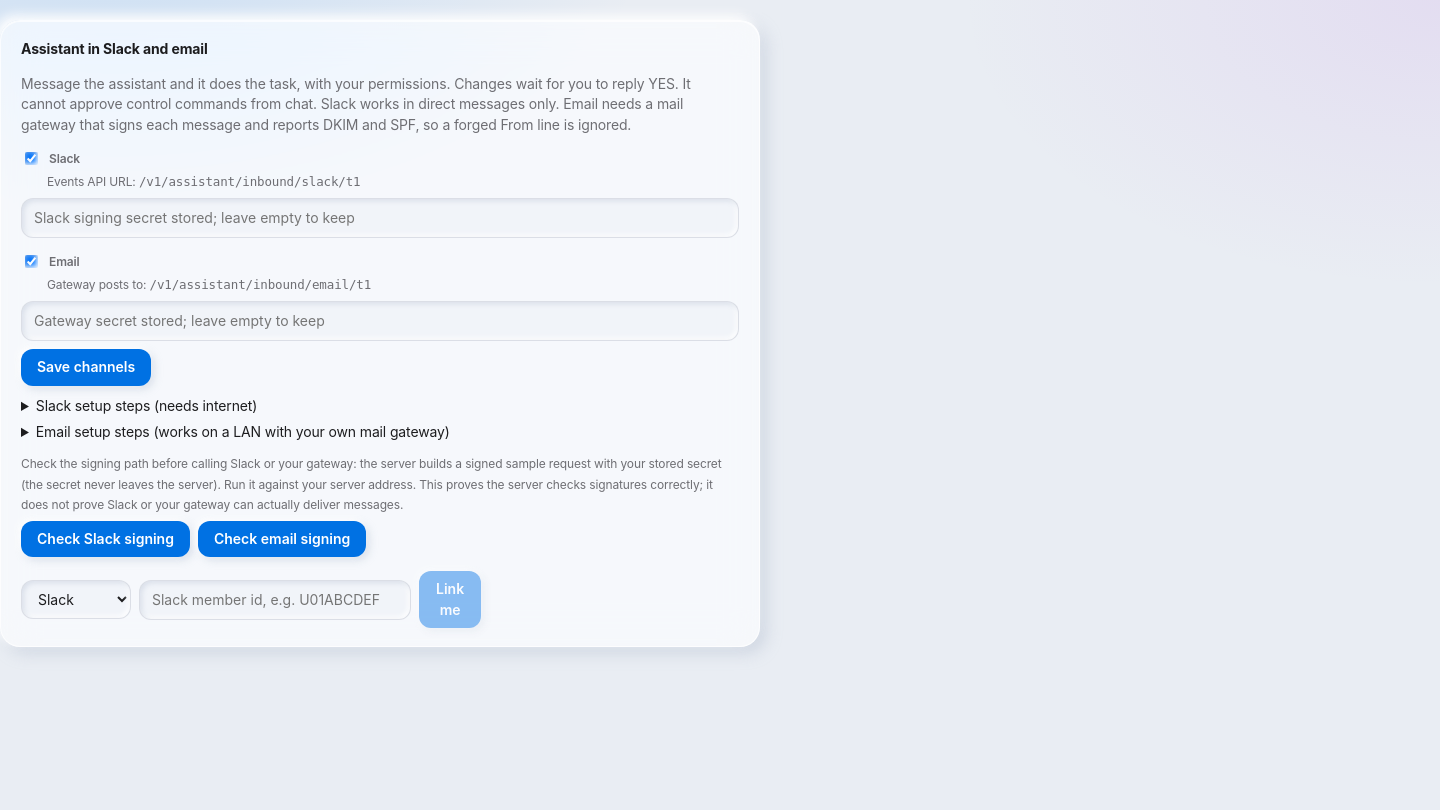
Test case: admin can generate a signed self-test command from the stored secret
What coordinates should you click on to do the following:
click the button "Check email signing"
I would click on:
 (282, 539)
Its box is [198,521,366,557].
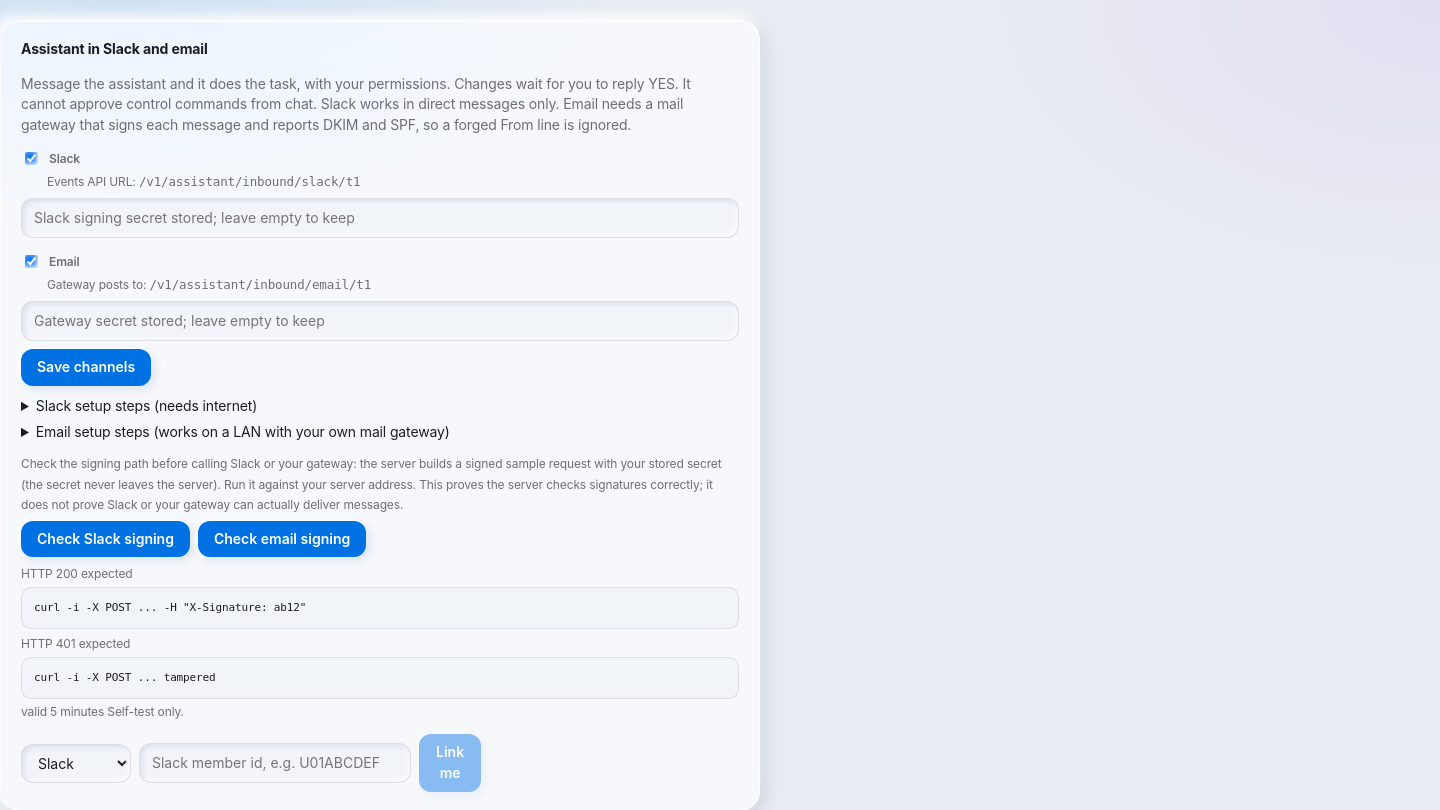
Result: the text "HTTP 200 expected" is shown at [21,566,132,581]
Result: the text named "Valid signed self-test command" shows "X-Signature" at [34,601,306,614]
Result: the text named "Tampered self-test command" shows "tampered" at [34,671,216,684]
